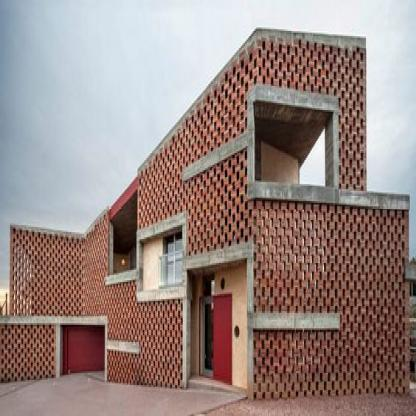Building Outline: (0, 28, 416, 401)
Door: (186, 260, 248, 395), (60, 323, 105, 378), (199, 296, 214, 378)
Facade: (0, 25, 415, 400)
Window: (139, 38, 406, 401), (13, 211, 184, 388), (253, 100, 333, 186), (0, 325, 56, 385), (139, 225, 182, 291), (108, 189, 137, 275), (165, 232, 182, 285), (201, 273, 215, 297)
